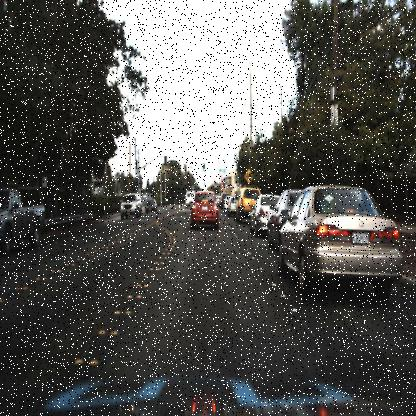car: (274, 180, 407, 305), (0, 187, 48, 258), (186, 185, 224, 236), (267, 184, 289, 258), (251, 183, 270, 245), (115, 186, 144, 226), (233, 180, 251, 230), (218, 192, 230, 214), (145, 197, 159, 215)
trafficLight-Green: (201, 156, 206, 177)
trafficLight-Red: (184, 167, 190, 182)
